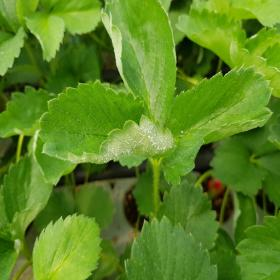Powdery Mildew Leaf: (158, 62, 274, 188), (38, 80, 178, 164), (100, 0, 177, 126)
